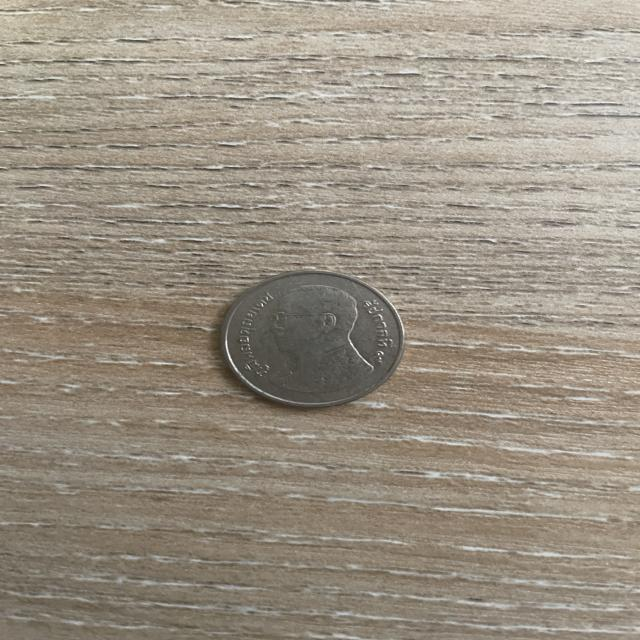1 Bath: (211, 262, 417, 423)
